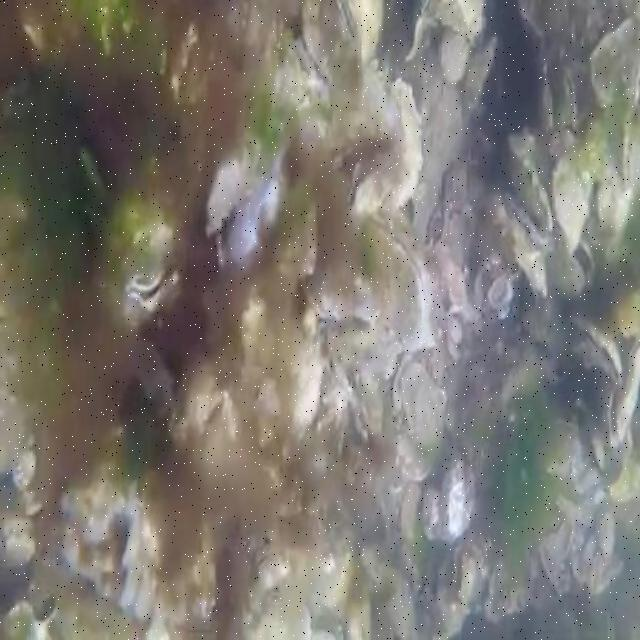Oyster-Closed: (301, 0, 364, 106), (384, 82, 422, 209), (511, 130, 554, 237), (552, 151, 594, 253), (591, 17, 638, 106), (399, 363, 444, 455), (238, 593, 312, 638), (336, 0, 385, 57), (463, 37, 495, 120), (438, 465, 474, 538), (345, 561, 373, 638), (620, 82, 638, 193), (439, 30, 472, 84), (552, 69, 576, 135), (255, 544, 289, 588), (363, 540, 387, 587), (597, 509, 614, 558)
Oyster-Open: (95, 188, 181, 317), (359, 214, 430, 347), (206, 151, 281, 269), (569, 312, 623, 382), (272, 37, 313, 108), (607, 340, 635, 443), (546, 237, 593, 297), (505, 190, 549, 251), (348, 154, 388, 218), (454, 546, 477, 602), (559, 128, 581, 151)
